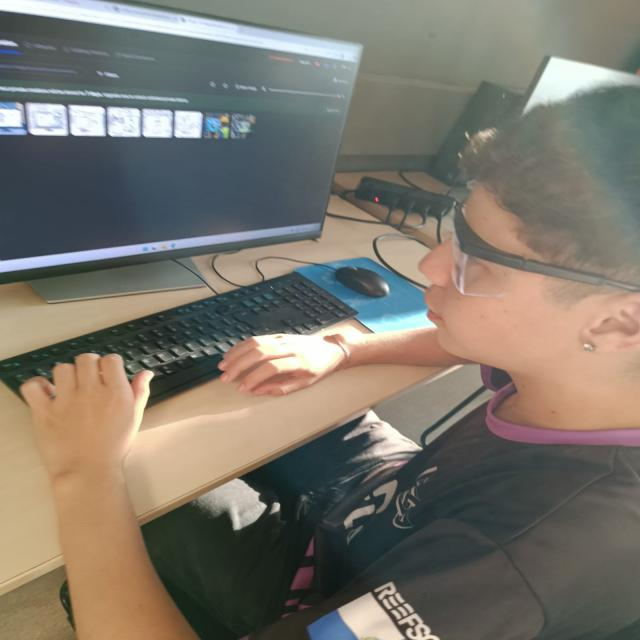oculos-epi: (449, 202, 637, 298)
